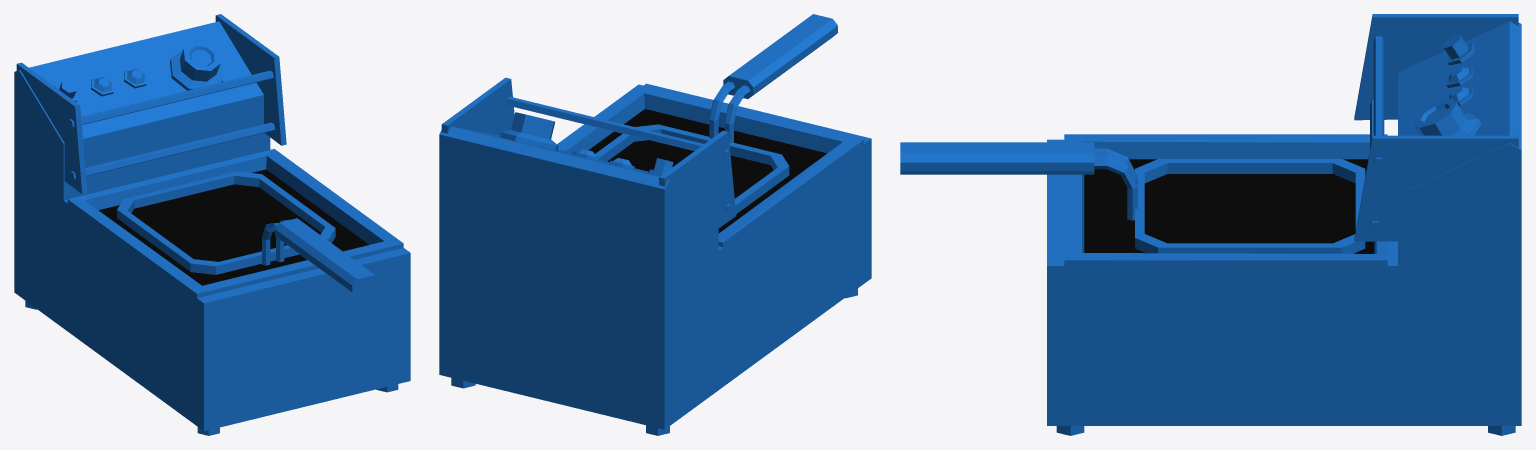
File: SM_fryer.fbx
3 renders of one model, left to right at view 1: azimuth 30°, elevation 25°; view 2: azimuth 150°, elevation 25°; view 3: azimuth 270°, elevation 25°, orthographic. The views are drawn at different scales.
Parts seen in each view (by area): view 1: Cylinder_33, Cube_29, Cylinder_25; view 2: Cylinder_33, Cylinder_25, Cube_29; view 3: Cylinder_33, Cube_29, Cylinder_25.
Boxes of the visible parts, left/top/right/bottom form: Cylinder_33: left=14, top=14, right=410, bottom=435; Cube_29: left=99, top=169, right=368, bottom=285; Cylinder_25: left=117, top=171, right=379, bottom=296; Cylinder_33: left=439, top=77, right=871, bottom=435; Cylinder_25: left=594, top=14, right=837, bottom=213; Cube_29: left=588, top=109, right=826, bottom=233; Cylinder_33: left=1047, top=14, right=1521, bottom=435; Cube_29: left=1084, top=159, right=1374, bottom=253; Cylinder_25: left=900, top=142, right=1365, bottom=253.
Bounding box in the file's own units: 27.77 × 30.86 × 57.45.
